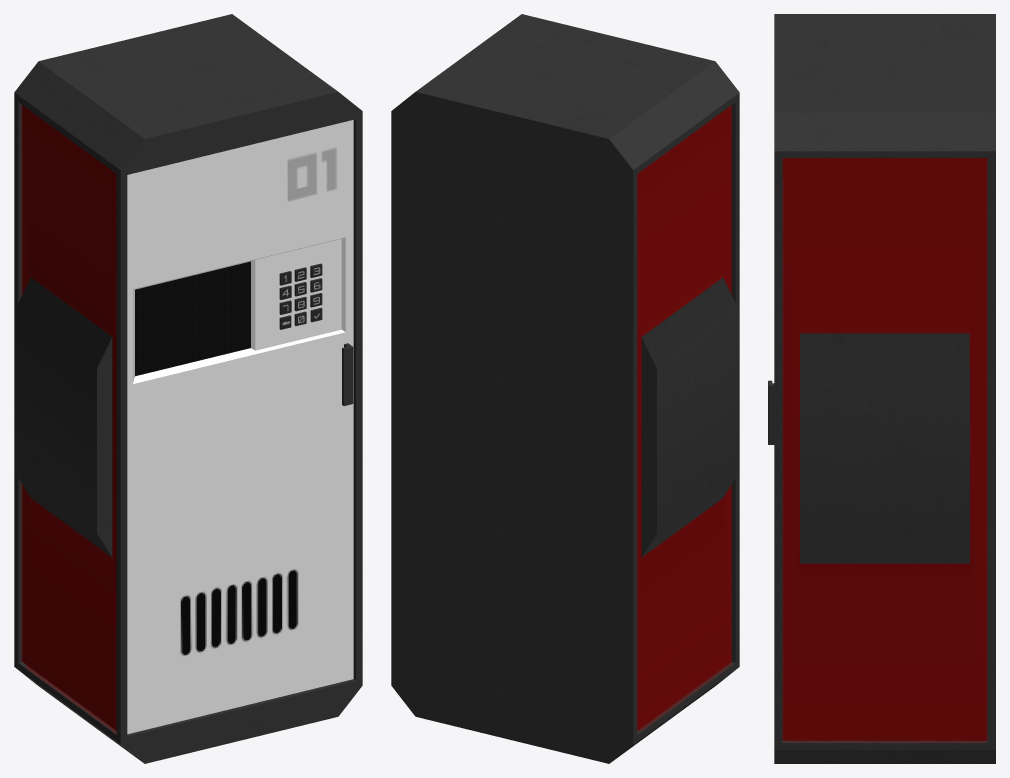
The model's file is lab_locker.fbx.
The picture shows the model from 3 angles, left to right: view 1: azimuth 30°, elevation 25°; view 2: azimuth 150°, elevation 25°; view 3: azimuth 270°, elevation 25°; orthographic projection. The views are drawn at different scales.
Visible parts, largest first — view 1: puerta, locker.001, botones; view 2: locker.001; view 3: locker.001.
Part boxes in pixels (left/top/right/bottom): puerta: left=127, top=120, right=353, bottom=734; locker.001: left=14, top=14, right=362, bottom=763; botones: left=135, top=261, right=322, bottom=376; locker.001: left=391, top=14, right=739, bottom=763; locker.001: left=768, top=14, right=995, bottom=763.
Size of the model in its own units: 85.25 by 192 by 60.92.
2 materials, 2 textured.
